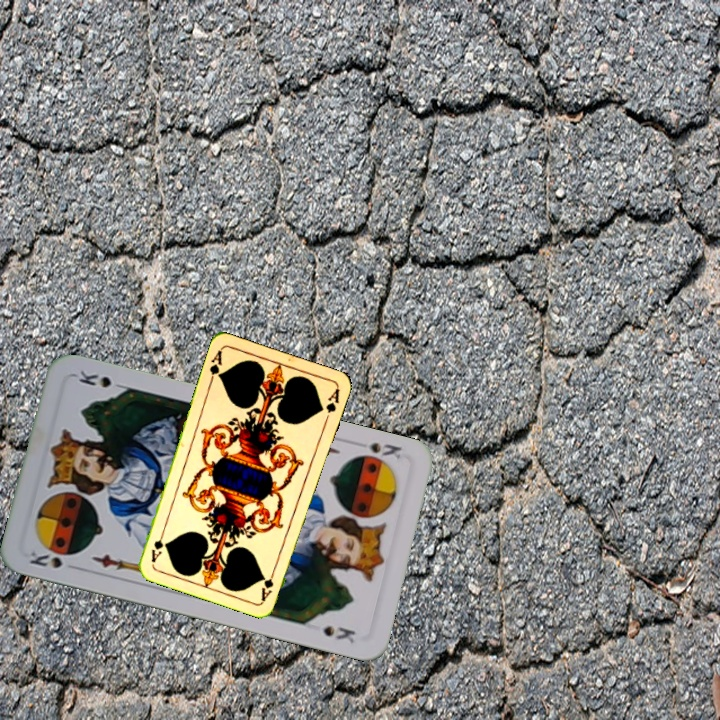GA: (257, 563, 278, 603), (205, 346, 225, 386)
SK: (25, 546, 82, 573), (364, 438, 404, 461)
